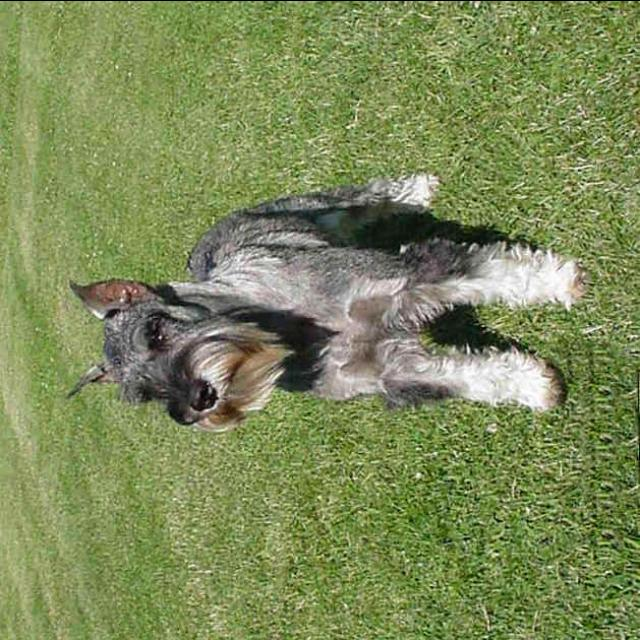standard_schnauzer: (65, 175, 593, 432)
